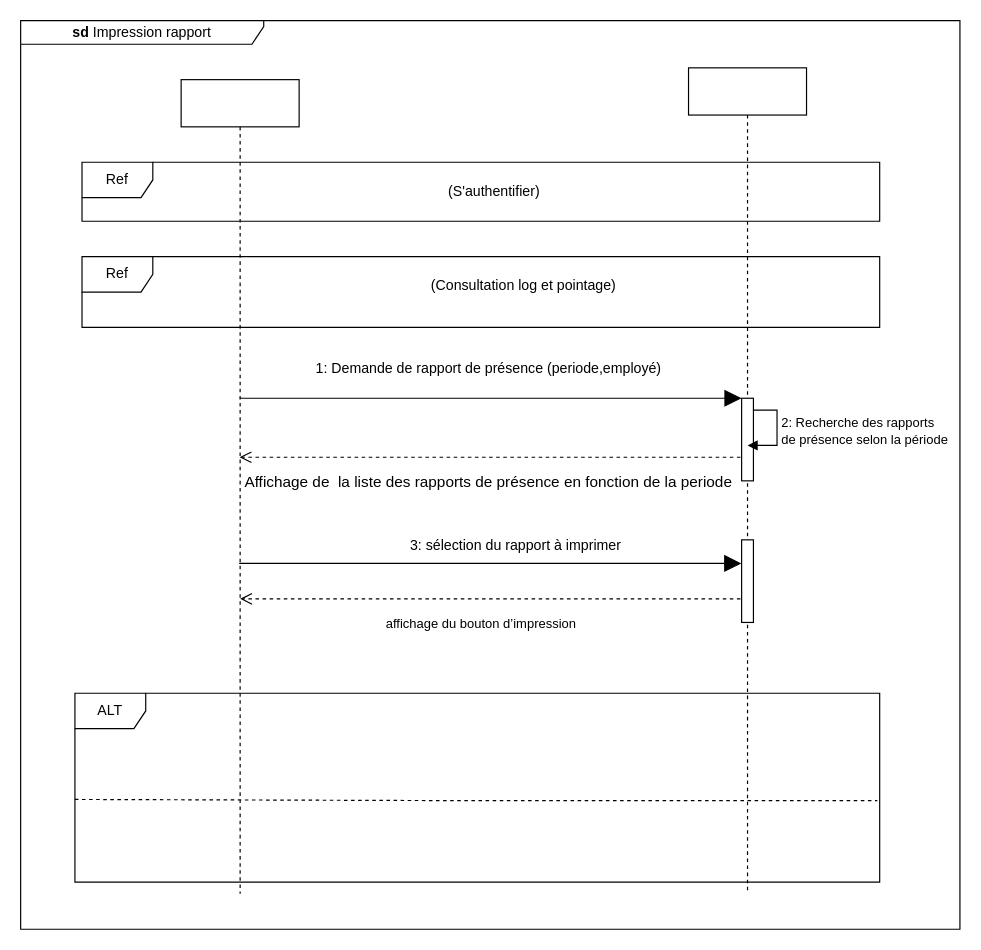
This 981x950 diagram has some shape labels left out. Each missing label, with the box of its shape:
Systeme: (687, 67, 807, 894)
Utilisateur: (180, 78, 299, 894)
